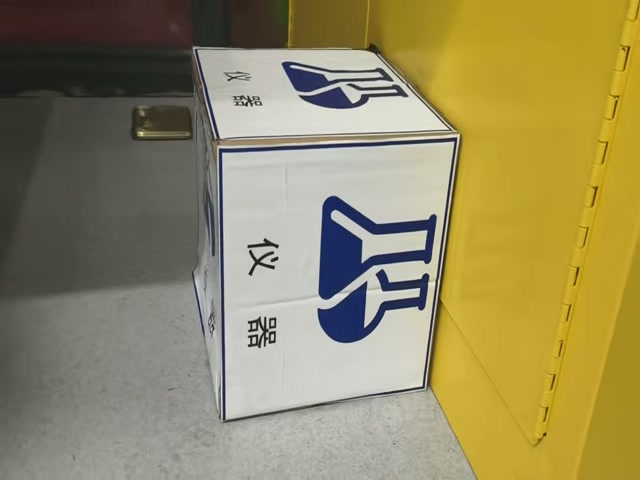Cube_ins: (195, 50, 456, 147)
